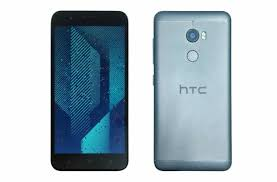htc: (153, 7, 232, 172)
